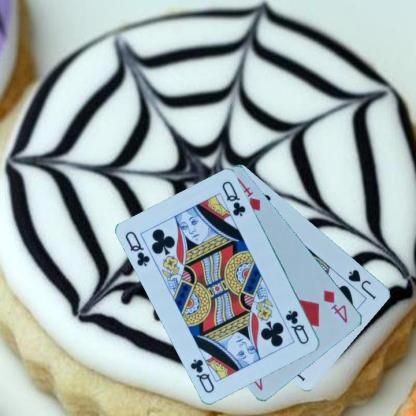4d: (320, 287, 350, 325)
Js: (345, 266, 378, 301)
Qc: (122, 229, 152, 268), (283, 308, 311, 346)
